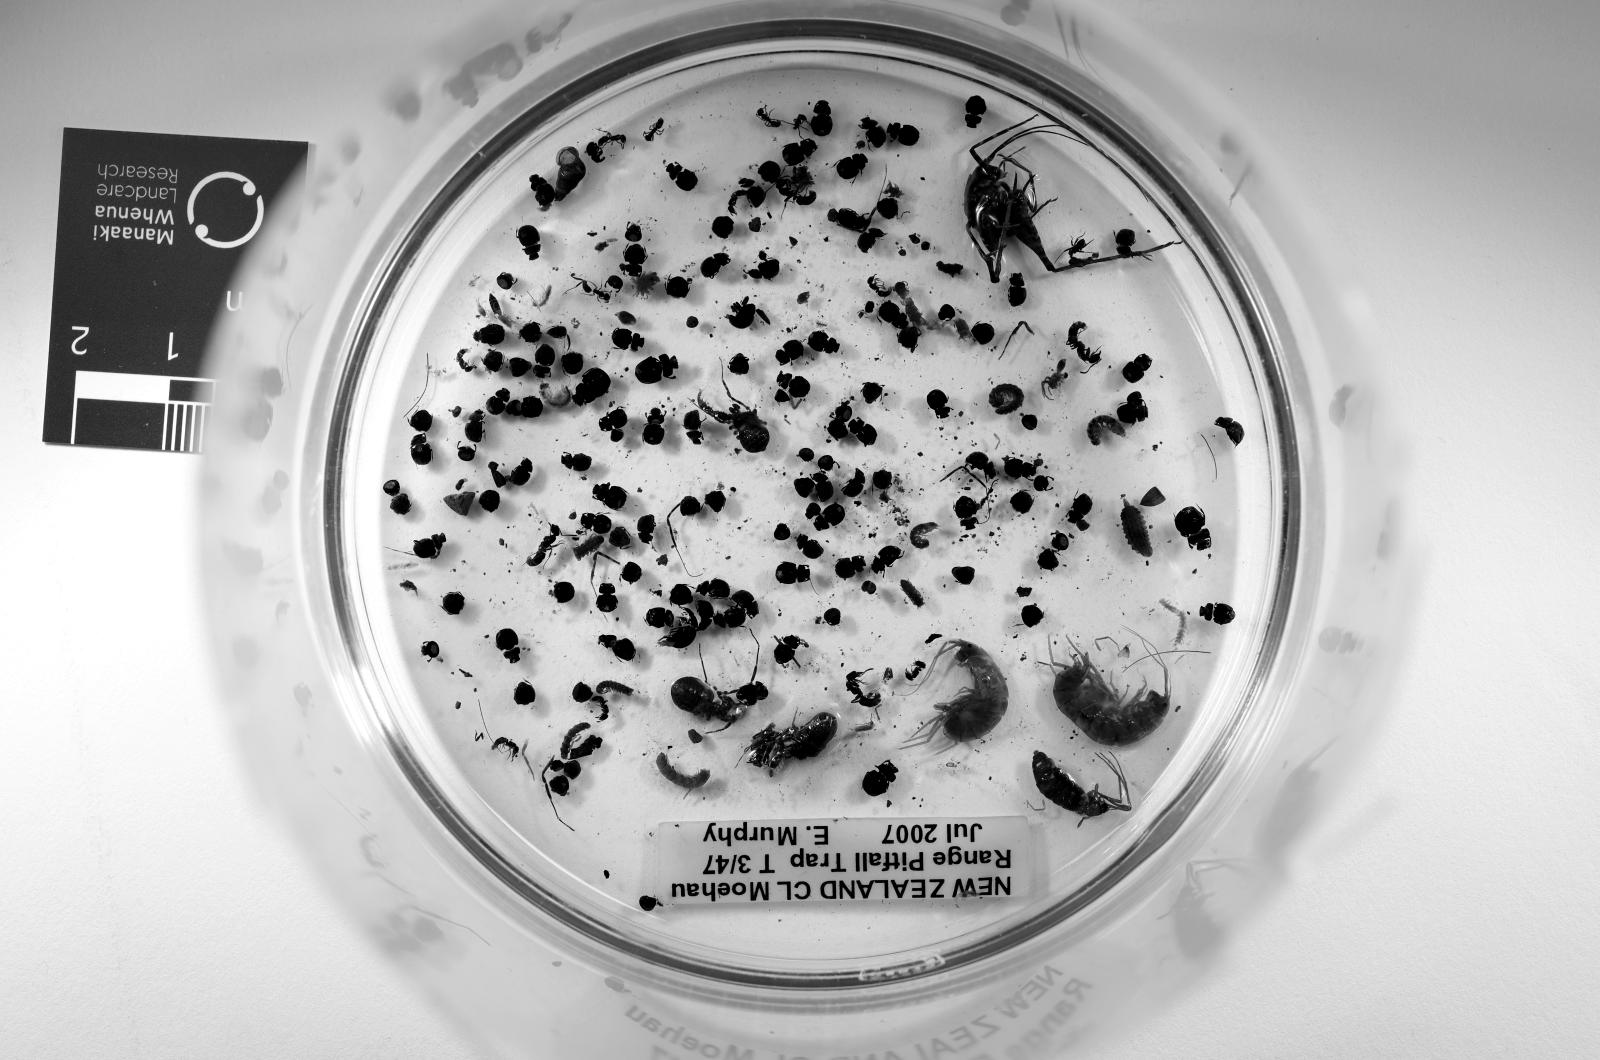amphipoda: (1050, 640, 1168, 745), (900, 640, 1010, 749), (540, 382, 575, 409)
araneae: (1041, 357, 1069, 397)
chilopoda: (1159, 600, 1187, 649)
coleoptera: (660, 608, 700, 649), (1175, 506, 1212, 550), (572, 367, 609, 407), (634, 354, 678, 386), (862, 761, 896, 795), (782, 137, 816, 168), (590, 481, 628, 509), (494, 627, 522, 665), (847, 416, 879, 447), (728, 295, 757, 329), (812, 503, 847, 531), (953, 497, 982, 531), (529, 174, 556, 208), (600, 634, 634, 661), (516, 224, 540, 260), (641, 407, 666, 444), (872, 547, 903, 575), (666, 161, 697, 189), (1122, 354, 1153, 382), (775, 634, 803, 665), (816, 503, 847, 531), (622, 243, 647, 277), (609, 327, 643, 351), (775, 373, 809, 397), (809, 99, 831, 137), (860, 118, 887, 149), (879, 302, 909, 329), (966, 451, 997, 478), (413, 535, 447, 558), (775, 338, 803, 367), (506, 397, 544, 419), (887, 121, 919, 146), (837, 153, 866, 180), (731, 590, 759, 618), (1216, 416, 1244, 444), (697, 577, 731, 600), (775, 562, 809, 584), (1115, 403, 1149, 426), (1200, 602, 1235, 625), (700, 252, 731, 277), (925, 388, 950, 419), (1006, 273, 1028, 308), (807, 332, 841, 354), (535, 344, 556, 379), (713, 606, 747, 627), (856, 227, 885, 252), (485, 388, 510, 416), (600, 407, 628, 432), (1069, 493, 1094, 522), (409, 435, 432, 466), (582, 512, 613, 535), (966, 96, 987, 128), (750, 258, 782, 279), (797, 535, 825, 558), (835, 556, 866, 577), (685, 409, 704, 444), (466, 409, 485, 444), (1003, 459, 1037, 478), (812, 472, 835, 500), (843, 468, 866, 497), (597, 584, 618, 612), (510, 459, 531, 485), (647, 608, 675, 627), (563, 453, 590, 472), (637, 516, 656, 543), (697, 600, 713, 631), (584, 143, 607, 164), (1115, 230, 1134, 254)
diplopoda: (987, 386, 1025, 413)
formicidae: (1065, 319, 1103, 369), (525, 525, 563, 568), (847, 671, 881, 707), (775, 177, 816, 205), (572, 273, 609, 302), (757, 105, 784, 128), (491, 736, 519, 757), (643, 118, 666, 143), (869, 277, 894, 298), (728, 189, 747, 214), (590, 696, 609, 720), (903, 661, 928, 680), (456, 348, 475, 373), (597, 134, 628, 146), (791, 115, 807, 130)
gastropoda: (553, 146, 588, 202)
isopoda: (1088, 416, 1125, 447), (909, 522, 938, 550)
opiliones: (697, 376, 769, 453), (769, 715, 837, 776), (672, 677, 747, 730)
orthoptera: (963, 121, 1056, 283)
